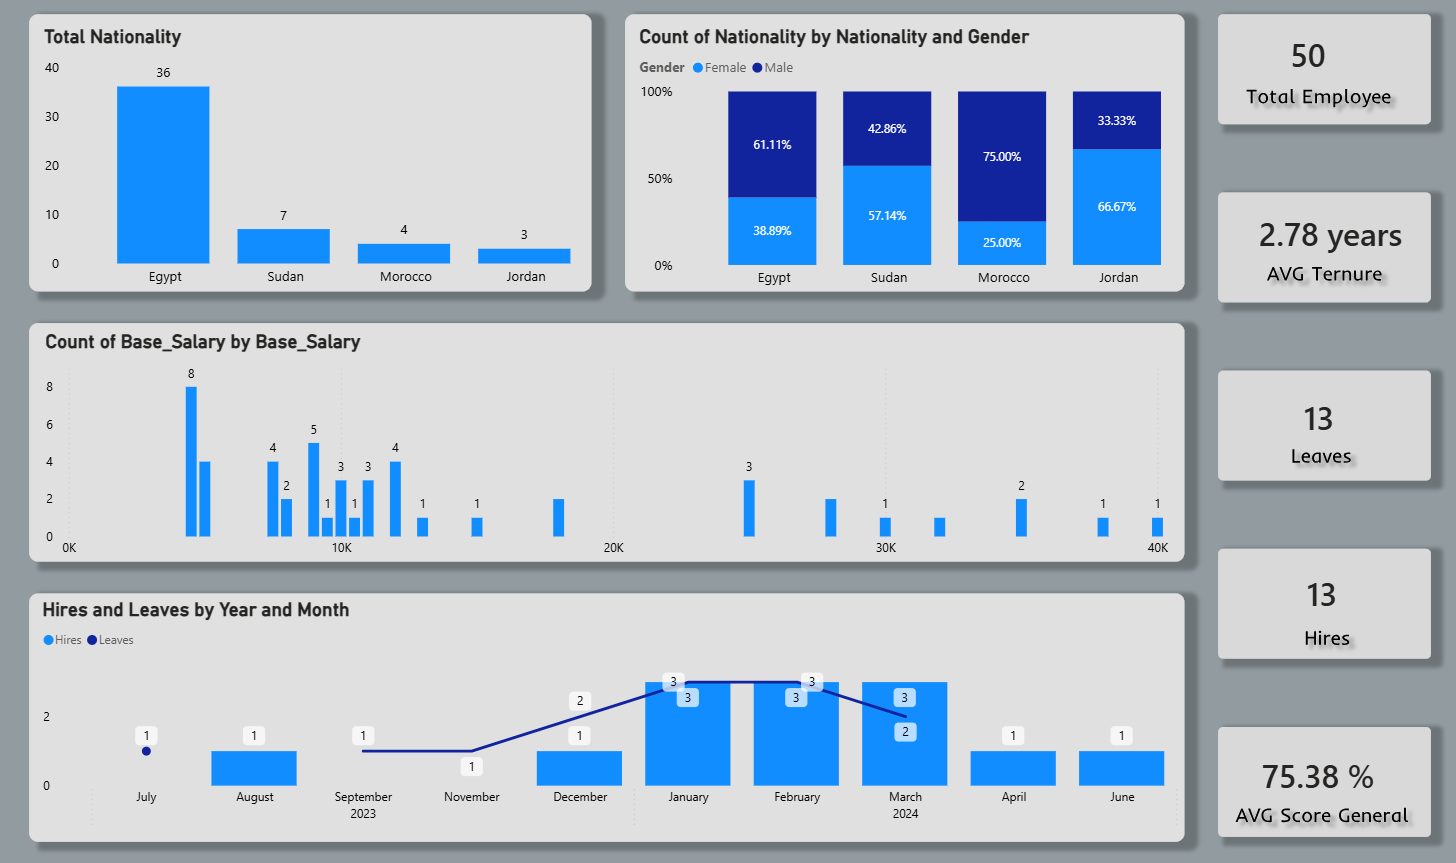

This screenshot's page, from the dashboard's own definition file:
{"tool":"powerbi","page":{"name":"employee overview","canvas":[1480,880],"ordinal":2},"visuals":[{"type":"group","id":"g1","title":"Group 1","box":[40.2,28.5,1189.6,818.5],"z":0,"group":"g3"},{"type":"clusteredColumnChart","title":"Total Nationality","fields":{"Category":["Employees.Nationality"],"Y":["CountNonNull(Employees.Nationality)"]},"box":[41.5,29.2,594.1,272.1],"z":0,"group":"g1"},{"type":"cardVisual","fields":{"Data":["_measures.Avg_Score_general"]},"box":[1247.4,720.7,230.9,126.5],"z":0,"group":"g2"},{"type":"group","id":"g2","title":"Group 3","box":[40.2,-0.2,1439.6,847.4],"z":10},{"type":"group","id":"g3","title":"Group 2","box":[40.2,-0.2,1439.6,847.1],"z":1000,"group":"g2"},{"type":"cardVisual","fields":{"Data":["CountNonNull(Employees.Employee_ID)"]},"box":[1276.8,-0.2,201.5,113.2],"z":1000,"group":"g3"},{"type":"hundredPercentStackedColumnChart","fields":{"Category":["Employees.Nationality"],"Y":["CountNonNull(Employees.Nationality)"],"Series":["Employees.Gender"]},"box":[643,28.5,586.8,273.5],"z":1000,"group":"g1"},{"type":"clusteredColumnChart","fields":{"Category":["Payroll.Base_Salary"],"Y":["CountNonNull(Payroll.Base_Salary)"]},"box":[43,336.7,1144.1,238.2],"z":2000,"group":"g1"},{"type":"cardVisual","fields":{"Data":["_measures.Hires"]},"box":[1293,550.1,185.3,102.9],"z":2000,"group":"g3"},{"type":"cardVisual","fields":{"Data":["_measures.Leaves"]},"box":[1290.1,373.7,189.7,97.1],"z":3000,"group":"g3"},{"type":"lineClusteredColumnComboChart","fields":{"Y":["_measures.Hires"],"Y2":["_measures.Leaves"],"Category":["DateTable.Date.Variation.Date Hierarchy.Year","DateTable.Date.Variation.Date Hierarchy.Month"]},"box":[40.2,607.3,1188.2,239.7],"z":3000,"group":"g1"},{"type":"cardVisual","fields":{"Data":["_measures.avg_tenure"]},"box":[1244.5,186.9,207.4,101.5],"z":4000,"group":"g3"}]}

Visuals, with their boxes in screenshot pixels (x1, y1, x2, y2), scaled from the page's 1480x880 canvas onto the 1456x863 screenshot:
"Group 1" group: [40, 28, 1210, 831]
"Total Nationality" clusteredColumnChart: [41, 29, 625, 295]
cardVisual - _measures.Avg_Score_general: [1227, 707, 1454, 831]
"Group 3" group: [40, 0, 1455, 831]
"Group 2" group: [40, 0, 1455, 831]
cardVisual - CountNonNull(Employees.Employee_ID): [1256, 0, 1454, 111]
hundredPercentStackedColumnChart - Employees.Nationality x CountNonNull(Employees.Nationality): [633, 28, 1210, 296]
clusteredColumnChart - Payroll.Base_Salary x CountNonNull(Payroll.Base_Salary): [42, 330, 1168, 564]
cardVisual - _measures.Hires: [1272, 539, 1454, 640]
cardVisual - _measures.Leaves: [1269, 366, 1455, 462]
lineClusteredColumnComboChart - _measures.Hires x _measures.Leaves: [40, 596, 1208, 831]
cardVisual - _measures.avg_tenure: [1224, 183, 1428, 283]
